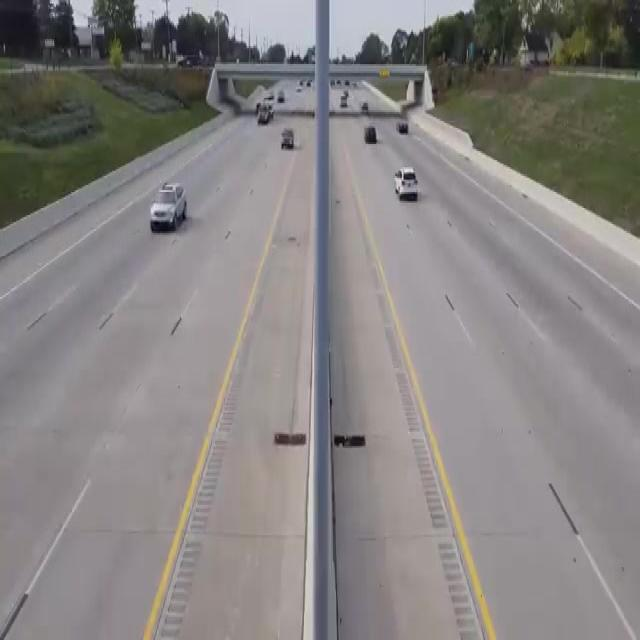car: (140, 177, 194, 243), (386, 160, 426, 204), (357, 119, 383, 152), (392, 112, 418, 144), (278, 118, 297, 158), (256, 94, 272, 125), (360, 95, 374, 115)
